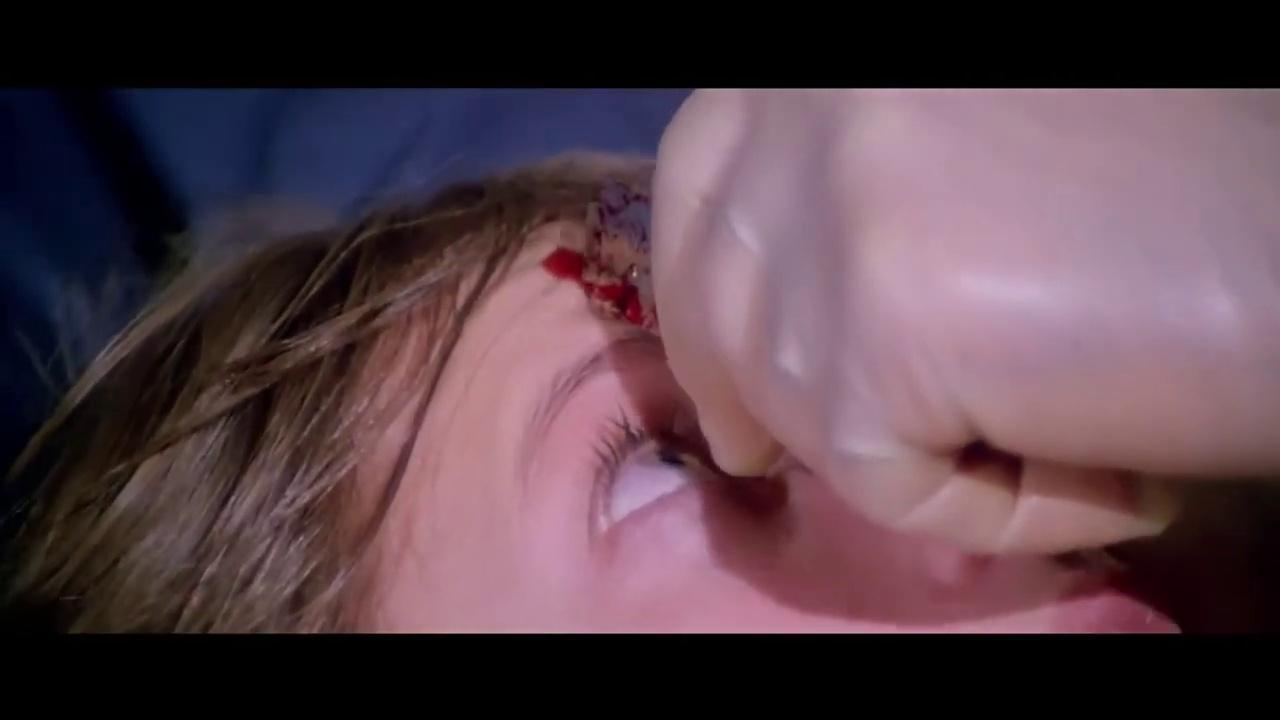Fire: (542, 177, 658, 328)
